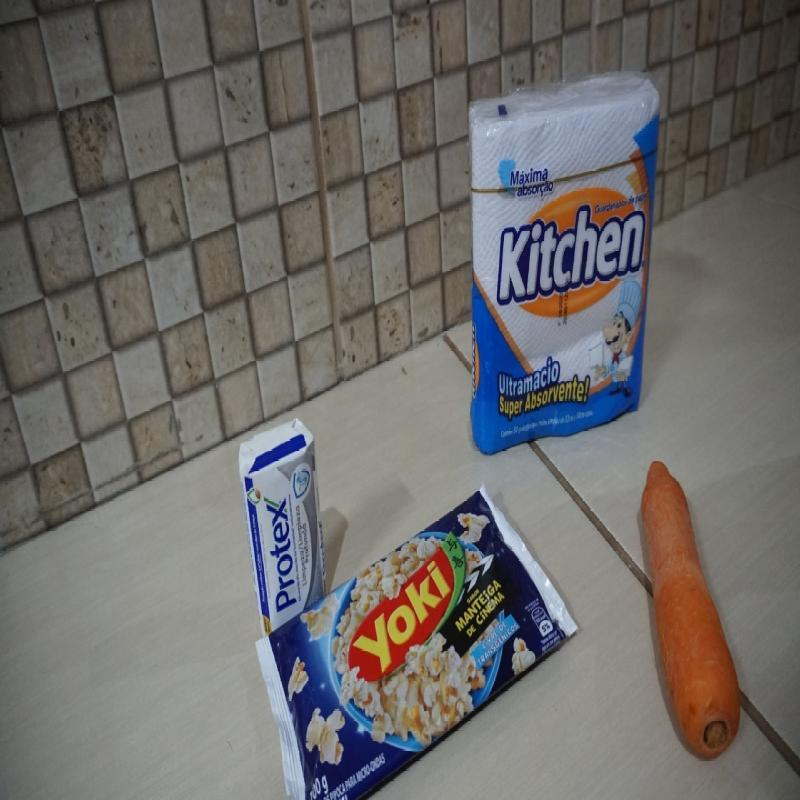Carrot: (641, 459, 741, 761)
Napkin: (466, 69, 664, 454)
Popcorn: (248, 485, 577, 800)
Soap: (237, 416, 330, 638)
